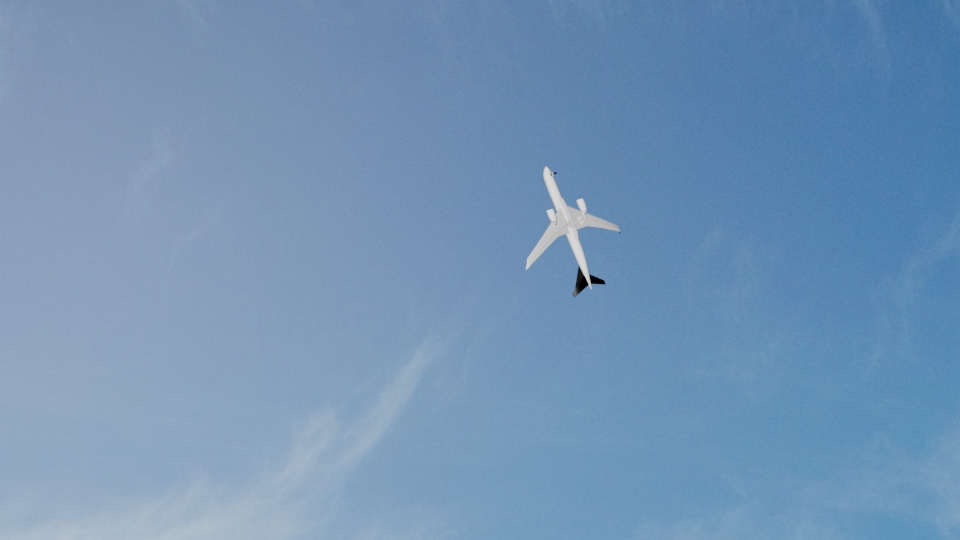plane: (520, 165, 624, 298)
